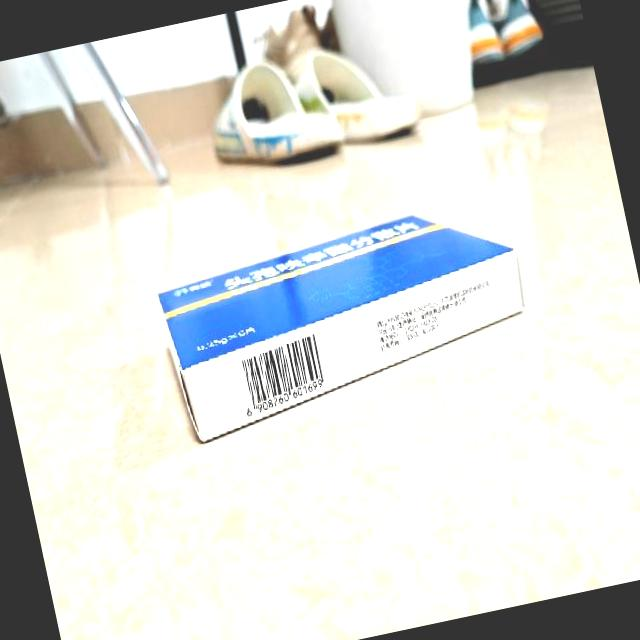box: (151, 196, 541, 447)
